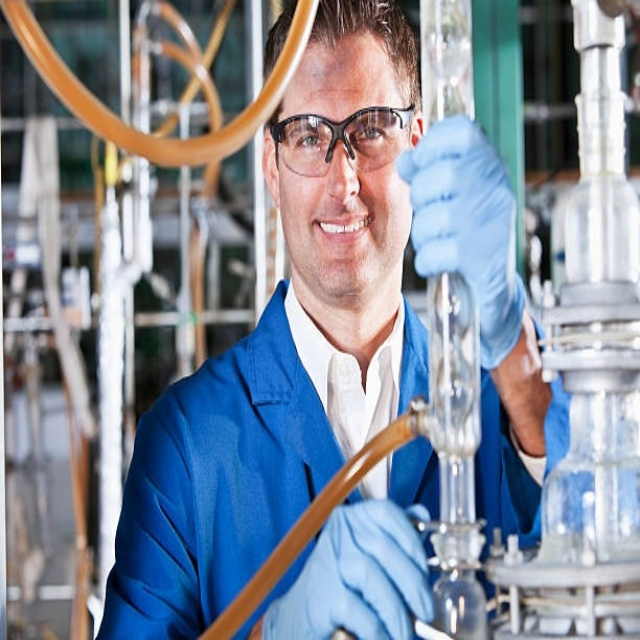Gafas: (268, 105, 416, 176)
Guantes: (397, 113, 530, 364), (264, 486, 438, 638)
Sin_mascara: (308, 205, 378, 276)
